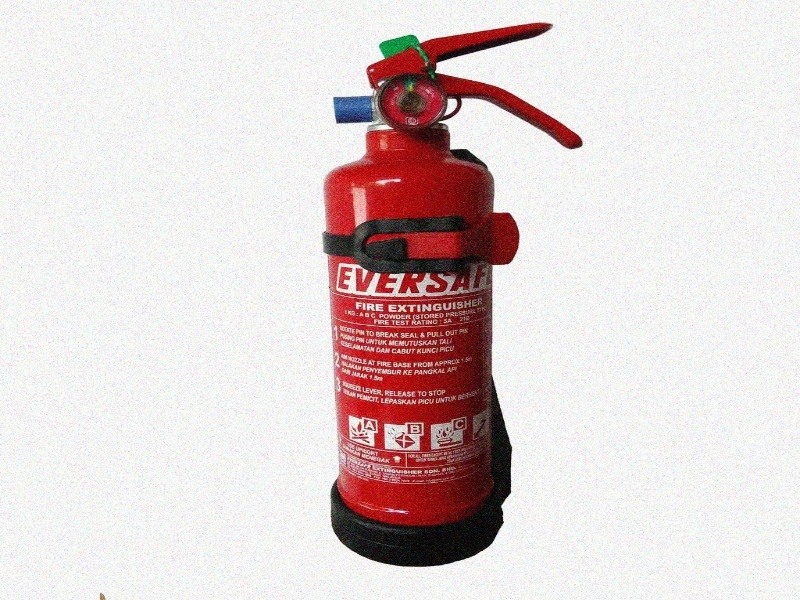fire_extinguisher: (250, 9, 592, 560)
